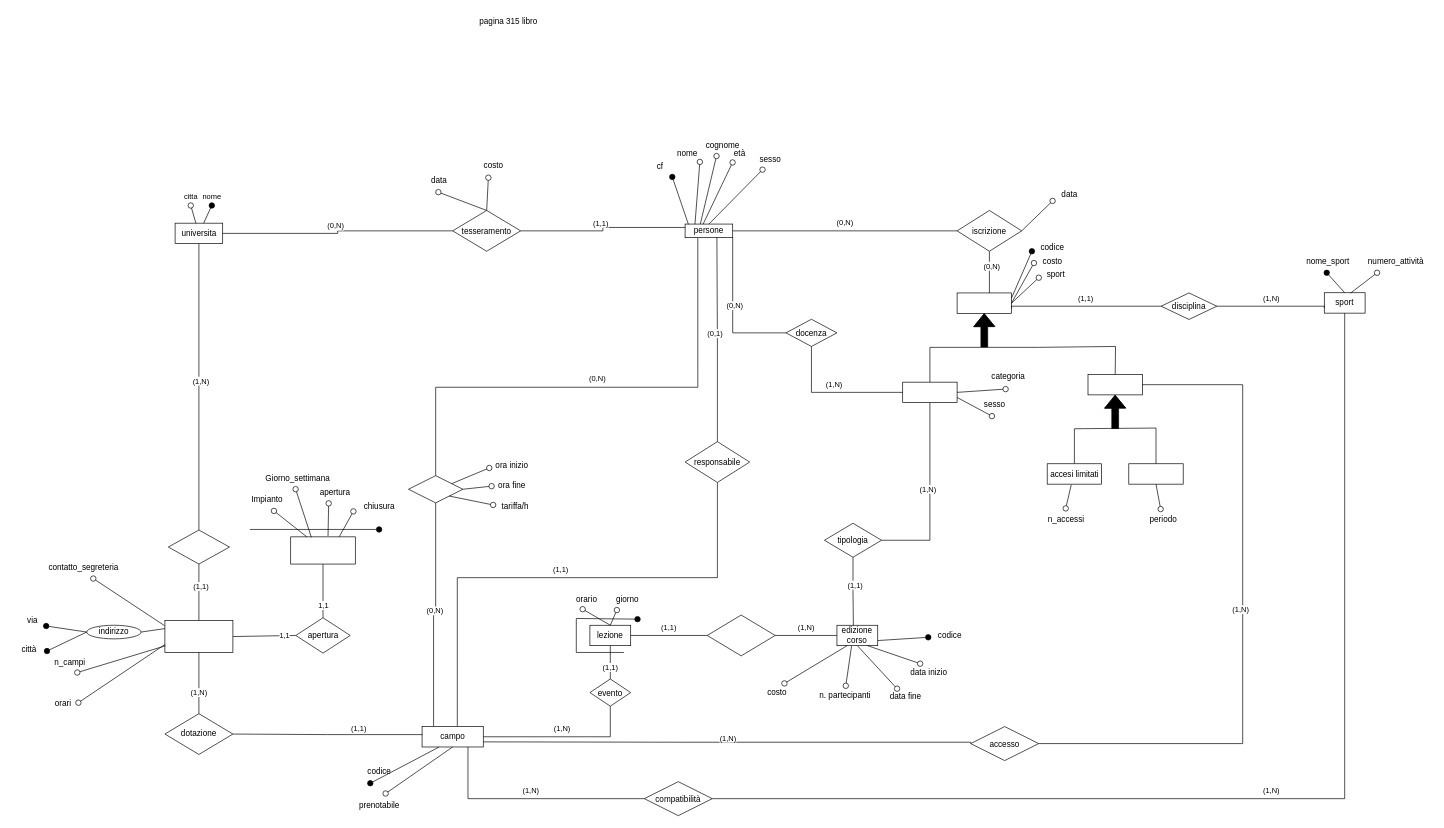
Image size: 1444x828. Some labels were removed from this diagram. Here are the shapes that lost their labels. From the top down, the centre of each, then its label:
At [984,302]: "attività".
At [929,392]: "corso".
At [1114,384]: "abbonamento".
At [435,489]: "affitto".
At [1155,473]: "periodico".
At [199,546]: "gestione".
At [322,550]: "Orario_Impianto".
At [198,636]: "impianto sportivi".
At [741,635]: "composizione".
